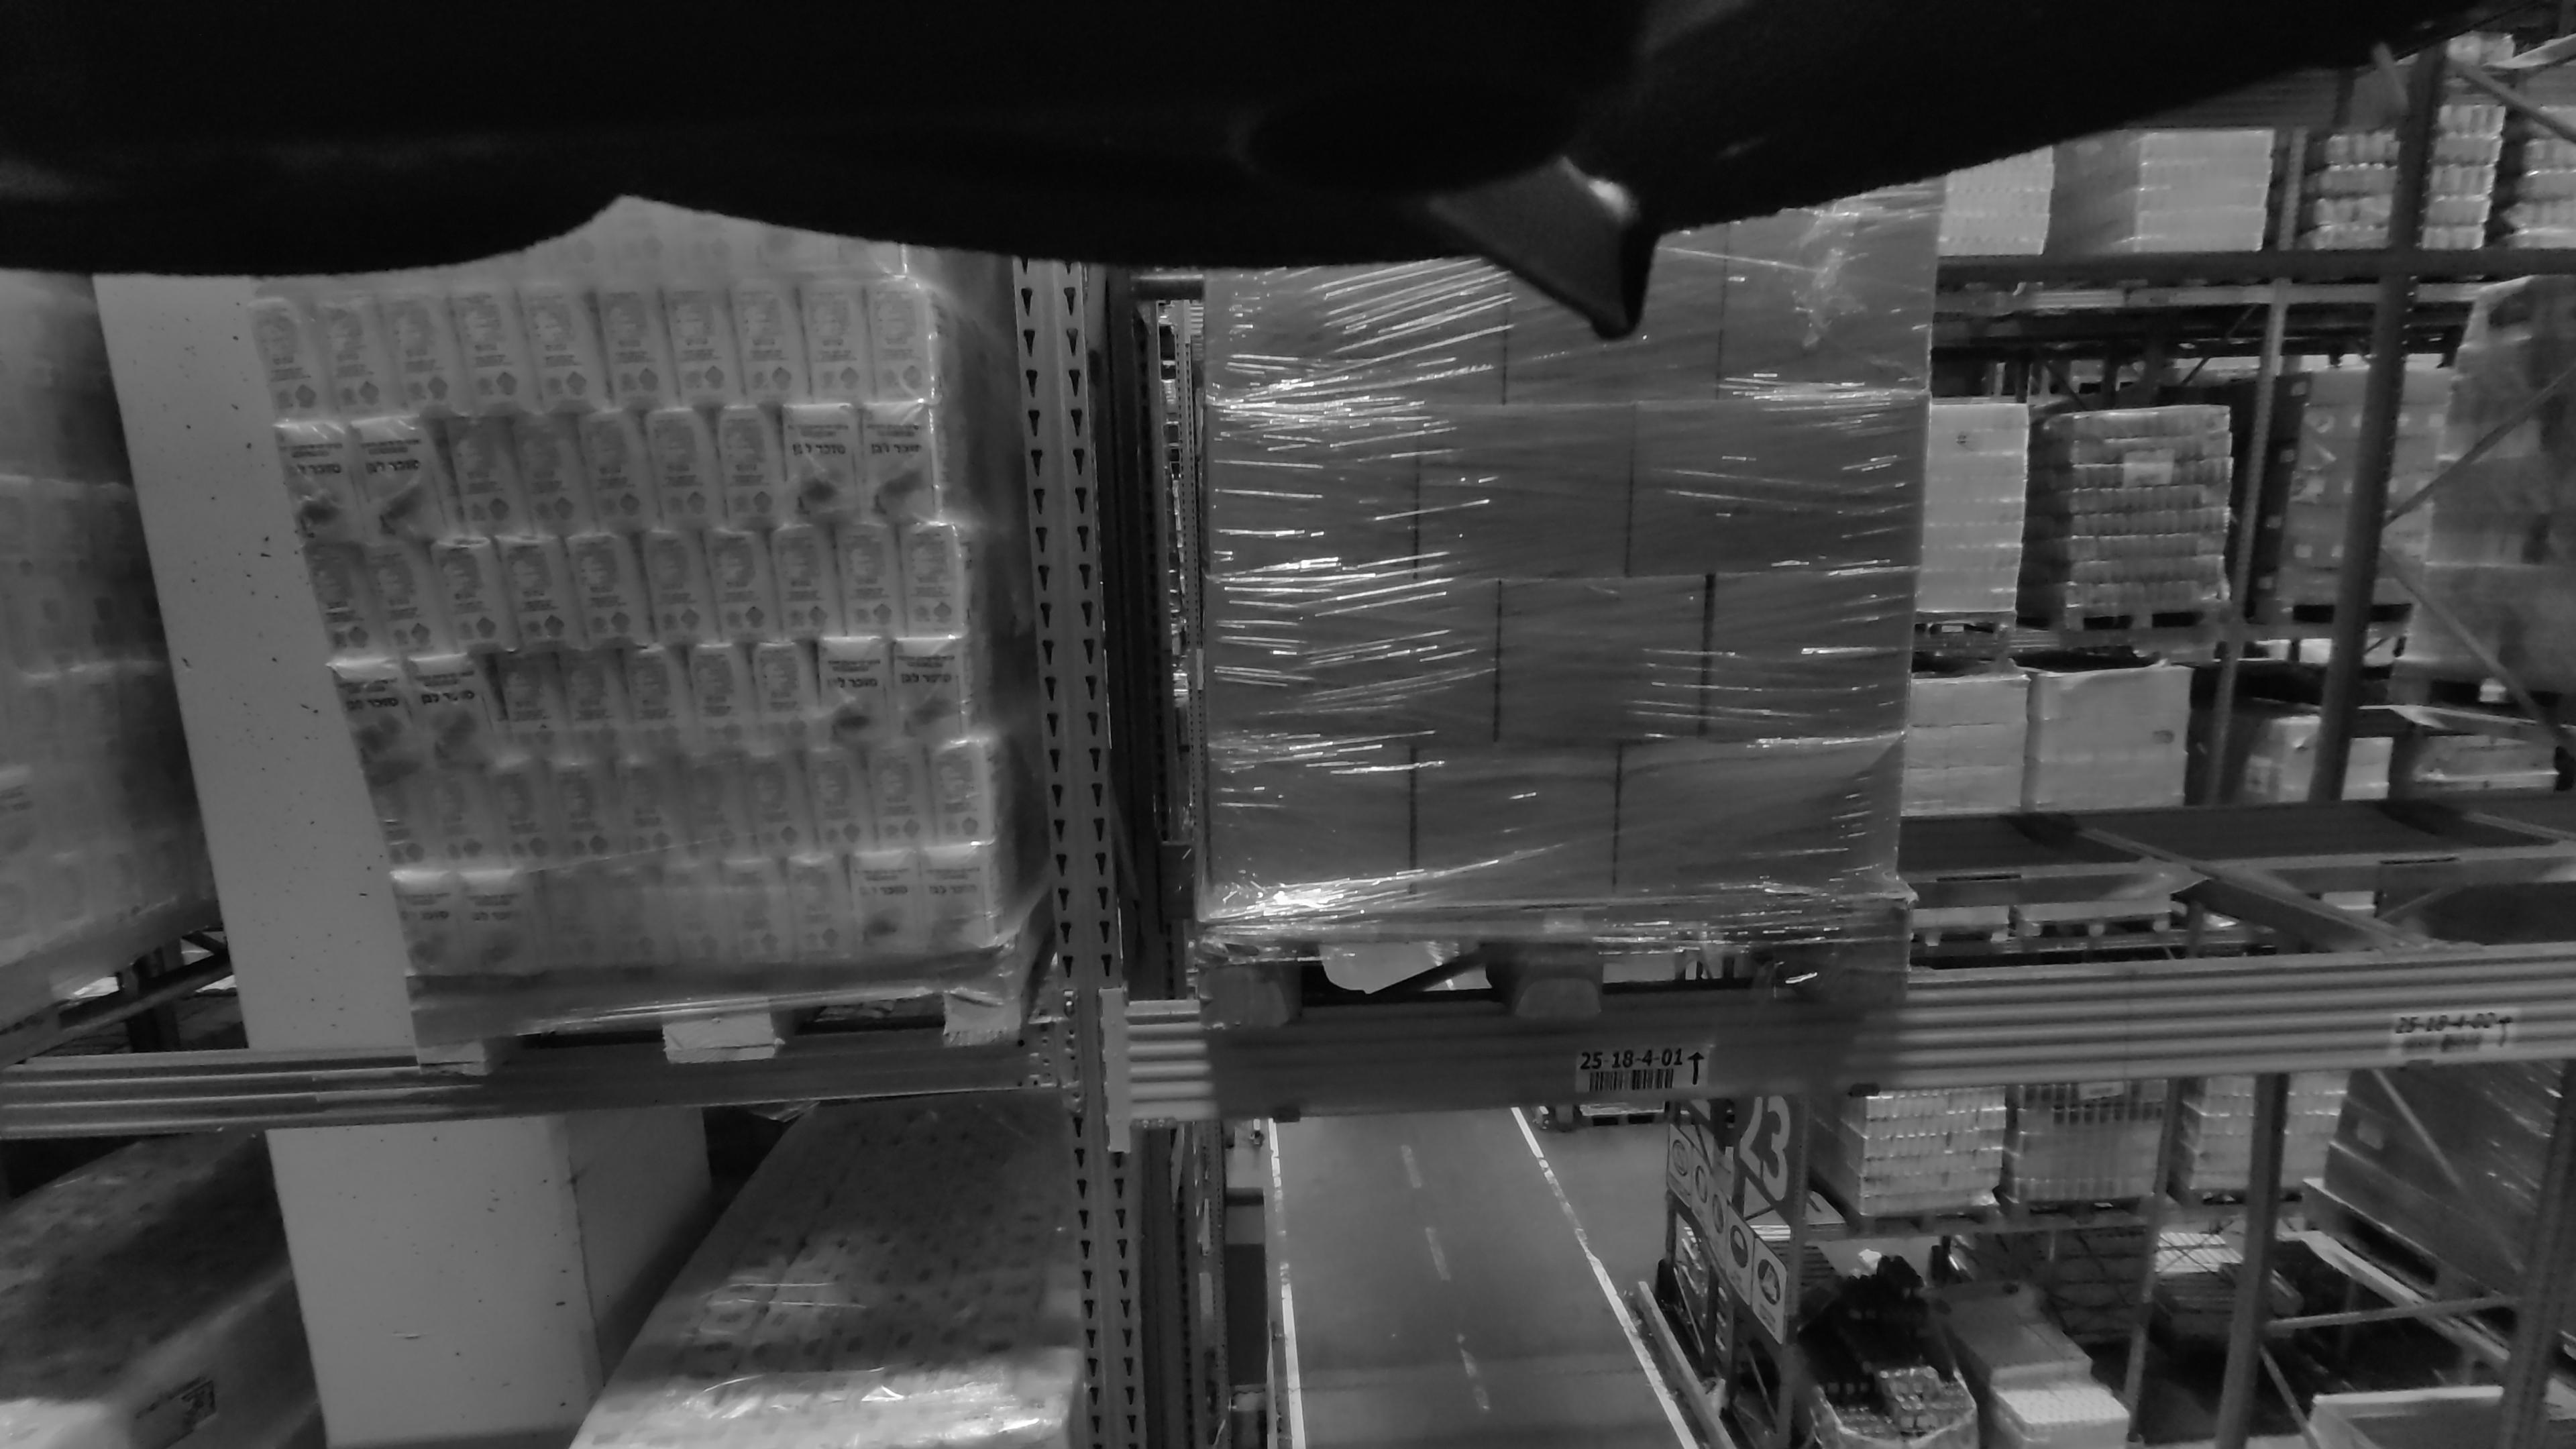empty-shelf: (1973, 0, 2576, 924)
